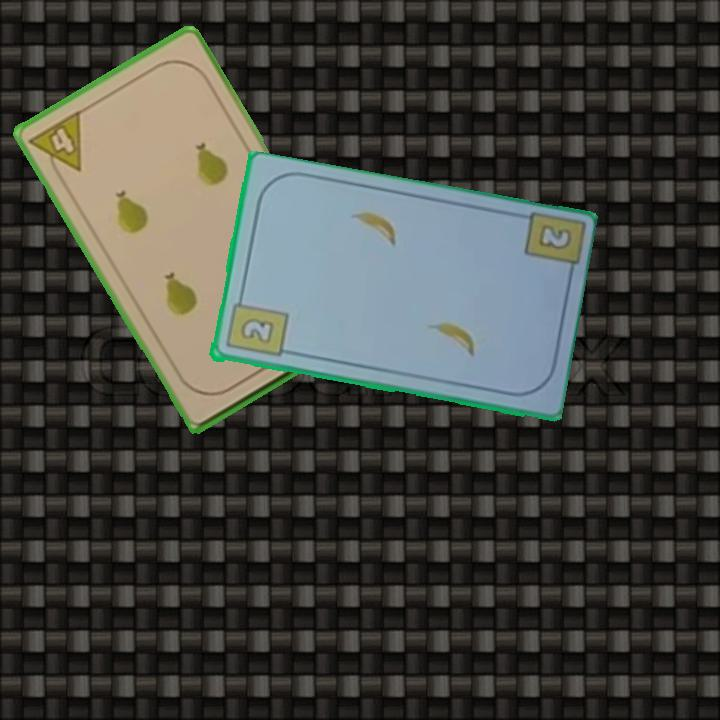2b: (222, 291, 290, 361), (534, 221, 575, 253)
4p: (25, 106, 85, 185)
